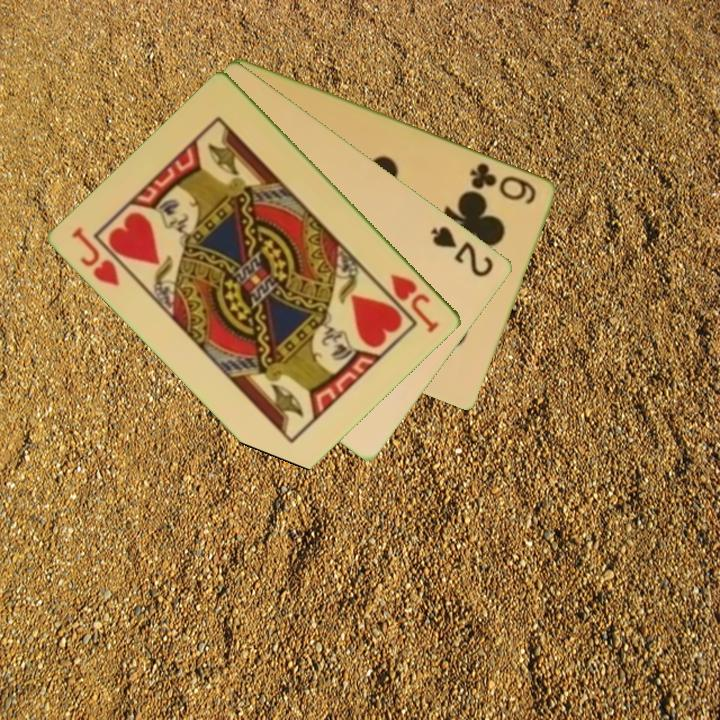2s: (427, 222, 497, 280)
6c: (466, 159, 540, 207)
Jh: (387, 270, 443, 336), (68, 223, 124, 289)
